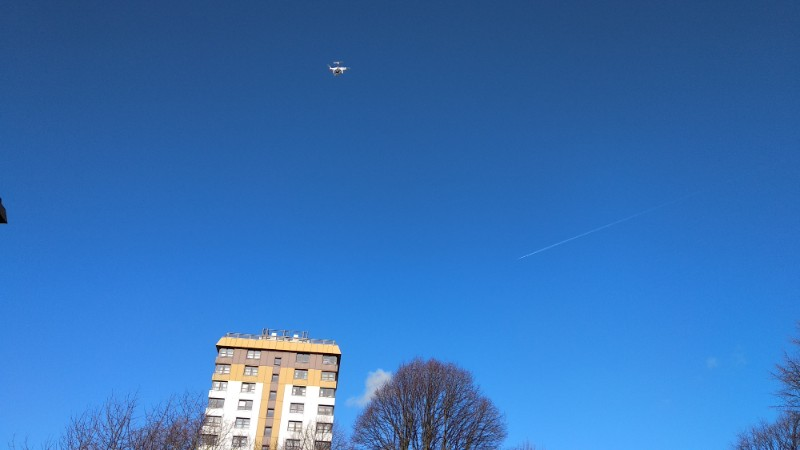drone: (326, 58, 350, 78)
